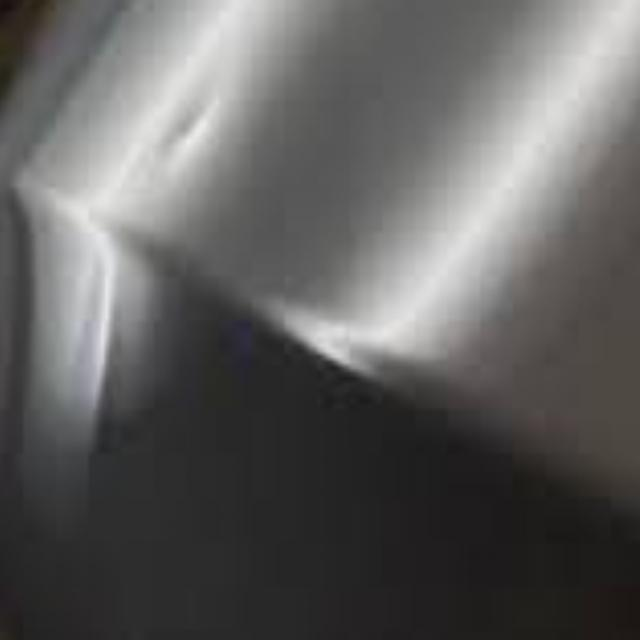dents: (55, 234, 134, 431), (142, 88, 241, 179)
